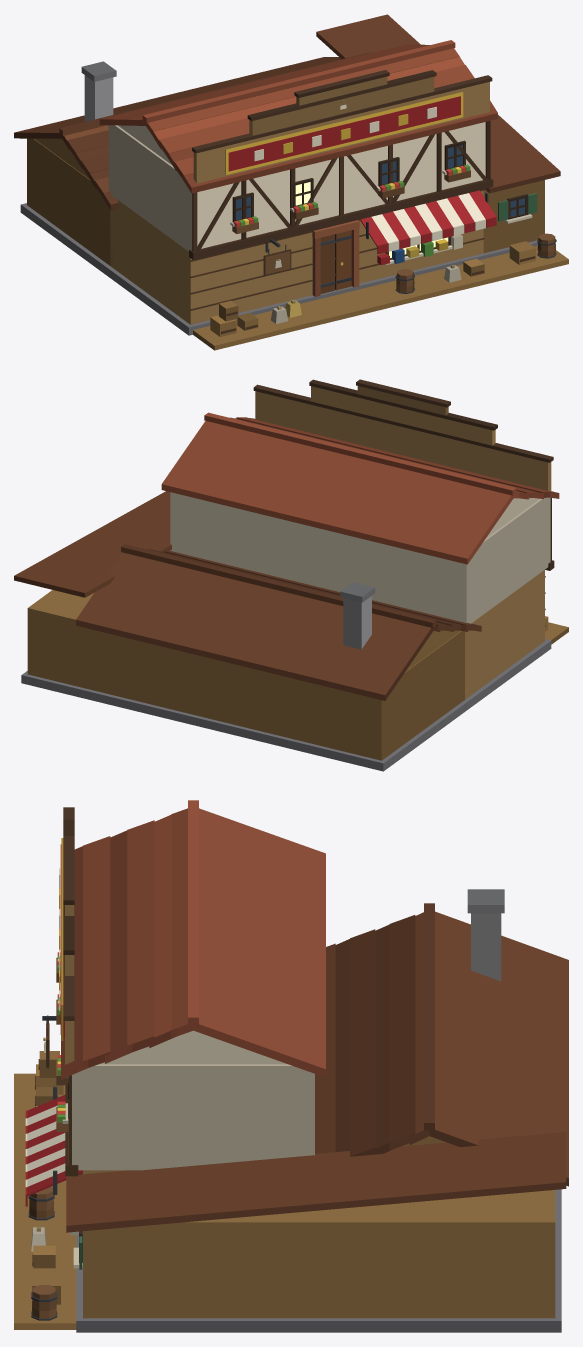
The model's file is general_store.glb.
3 views of the same model, one above another, from view 1: azimuth 30°, elevation 25°; view 2: azimuth 150°, elevation 25°; view 3: azimuth 270°, elevation 25° (orthographic). The views are drawn at different scales.
Visible parts, largest first — view 1: general_store_body, general_store_ground; view 2: general_store_body; view 3: general_store_body, general_store_ground.
Boxes of the visible parts, x1,y1,x2,y2 form: general_store_body: (14, 14, 560, 336); general_store_ground: (193, 246, 568, 350); general_store_body: (14, 379, 559, 771); general_store_body: (25, 800, 568, 1332); general_store_ground: (14, 1073, 76, 1329).
Size of the model in its own units: 16.78 by 9.37 by 14.94.
